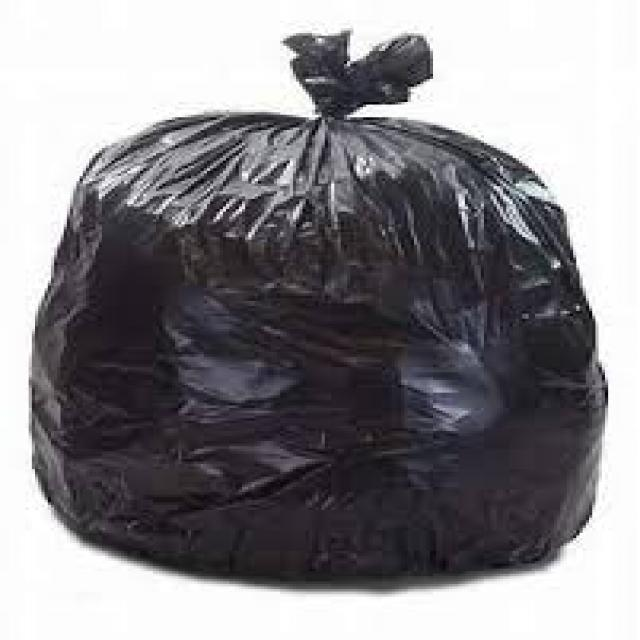plastic_bag: (37, 33, 579, 573)
